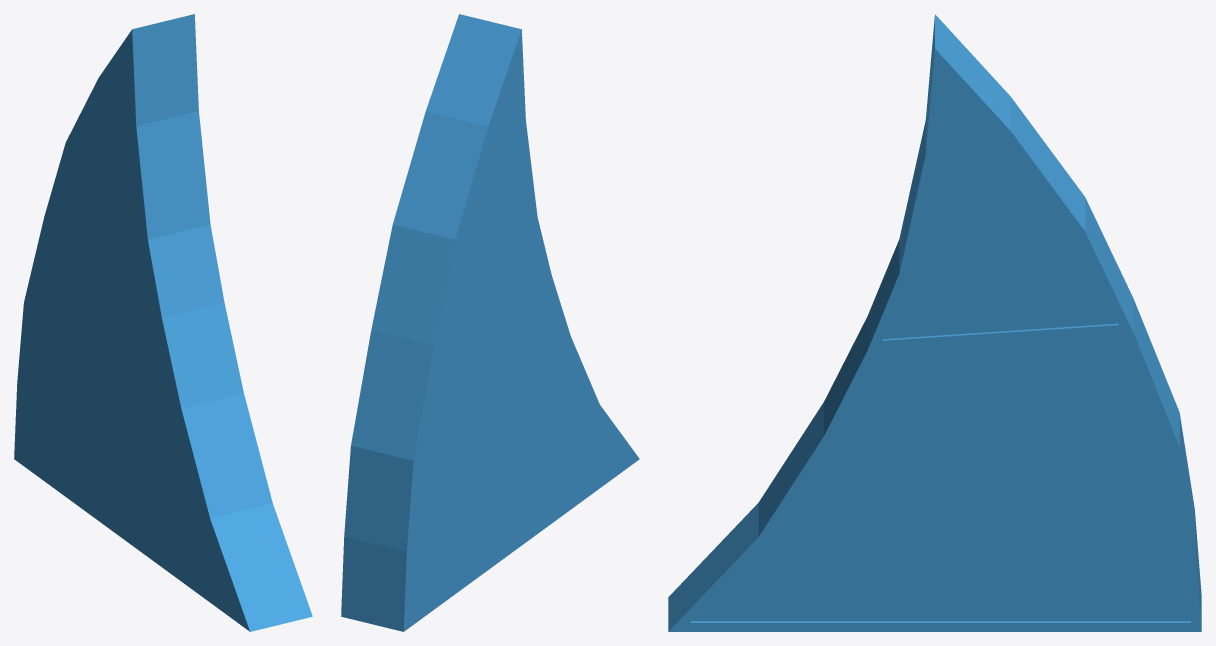
The model's file is DoorPanel.glb.
The picture shows the model from 3 angles, left to right: view 1: azimuth 30°, elevation 25°; view 2: azimuth 150°, elevation 25°; view 3: azimuth 270°, elevation 25°; orthographic projection. The views are drawn at different scales.
Visible parts, largest first — view 1: DoorRot; view 2: DoorRot; view 3: DoorRot.
Part boxes in pixels (bbox=[...]): DoorRot: bbox=[14, 14, 312, 631]; DoorRot: bbox=[341, 14, 639, 631]; DoorRot: bbox=[668, 14, 1201, 631].
Size of the model in its own units: 0.254 by 2 by 1.66.
